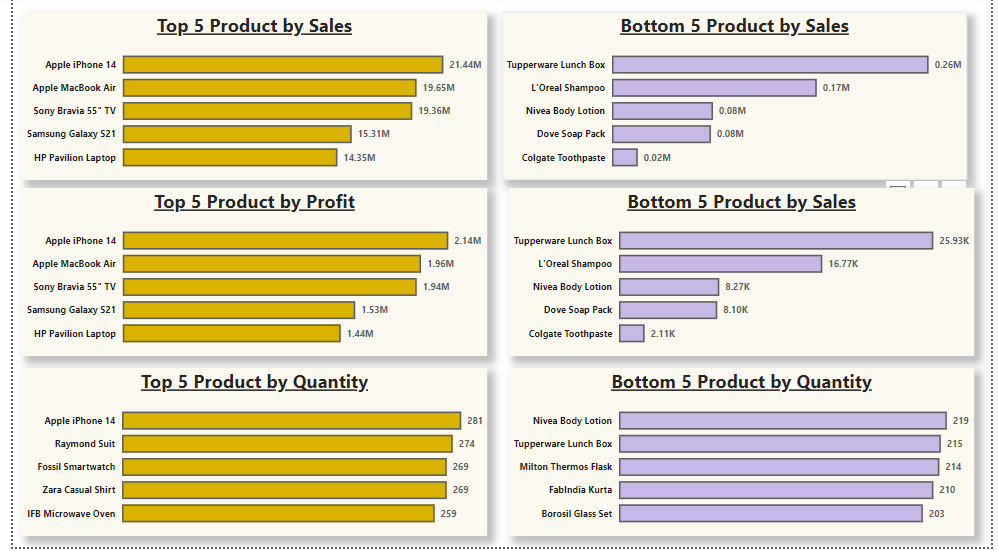

What the dashboard file says about the page in this screenshot:
{"tool":"powerbi","page":{"name":"Top/Bottom  5 Analysis","canvas":[1280,720],"ordinal":1},"visuals":[{"type":"barChart","title":"Top 5 Product by Sales","fields":{"Category":["Dim Product.Product Name"],"Y":["Sum(Fact Table.Net Sales)"]},"box":[11.8,19.6,608.7,220],"z":0},{"type":"barChart","title":"Bottom 5 Product by Sales","fields":{"Category":["Dim Product.Product Name"],"Y":["Sum(Fact Table.Net Sales)"]},"box":[640.1,19.6,608.7,220],"z":1000},{"type":"barChart","title":"Top 5 Product by Profit","fields":{"Category":["Dim Product.Product Name"],"Y":["Sum(Fact Table.Profit)"]},"box":[11.8,250,608.7,219.9],"z":2000},{"type":"barChart","title":"Top 5 Product by Quantity","fields":{"Category":["Dim Product.Product Name"],"Y":["Sum(Fact Table.Units Sold)"]},"box":[11.8,485.7,608.7,219.9],"z":3000},{"type":"barChart","title":"Bottom 5 Product by Sales","fields":{"Category":["Dim Product.Product Name"],"Y":["Sum(Fact Table.Profit)"]},"box":[649.3,250,608.7,219.9],"z":4000},{"type":"barChart","title":"Bottom 5 Product by Quantity","fields":{"Category":["Dim Product.Product Name"],"Y":["Sum(Fact Table.Units Sold)"]},"box":[649.3,485.7,608.7,219.9],"z":5000}]}

Visuals, with their boxes in screenshot pixels (x1, y1, x2, y2), scaled from the page's 1280x720 canvas onto the 998x551 screenshot:
"Top 5 Product by Sales" barChart: box(9, 15, 484, 183)
"Bottom 5 Product by Sales" barChart: box(499, 15, 974, 183)
"Top 5 Product by Profit" barChart: box(9, 191, 484, 360)
"Top 5 Product by Quantity" barChart: box(9, 372, 484, 540)
"Bottom 5 Product by Sales" barChart: box(506, 191, 981, 360)
"Bottom 5 Product by Quantity" barChart: box(506, 372, 981, 540)
